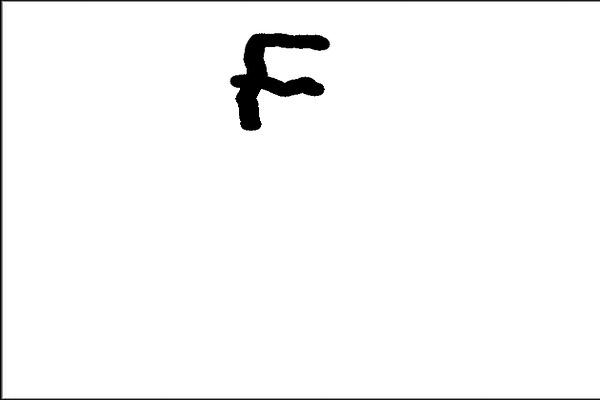F: (225, 29, 334, 134)
